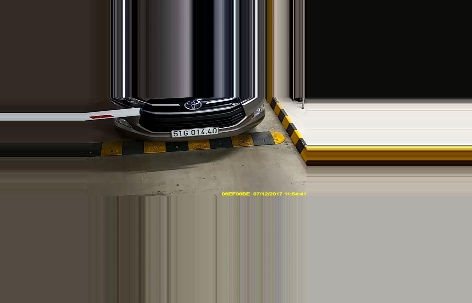plate: (170, 126, 220, 138)
